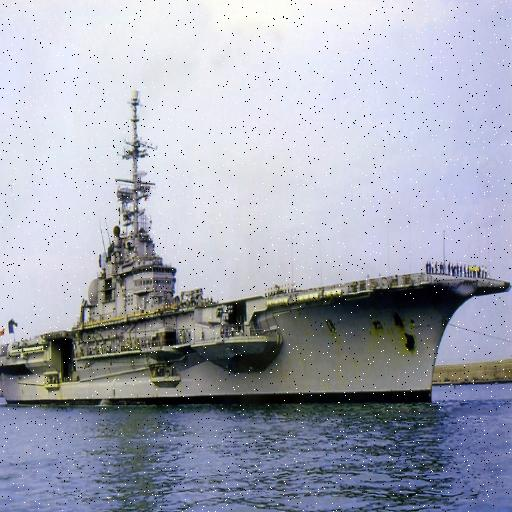Portanaves: (1, 89, 512, 410)
